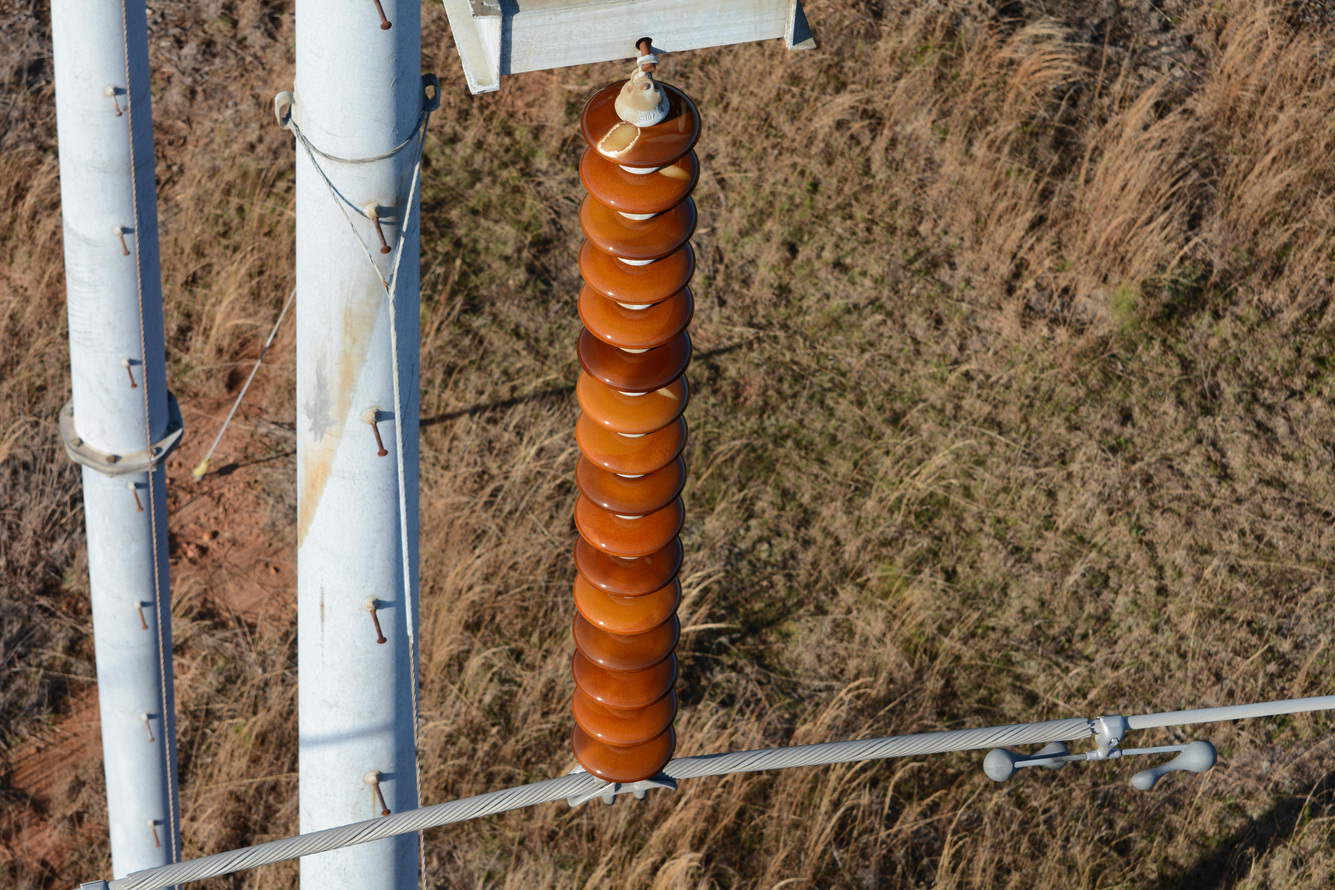Flashover: (597, 115, 643, 155), (658, 158, 691, 183), (656, 384, 680, 402)
hammer: (985, 704, 1225, 795)
insulator: (571, 81, 701, 778)
